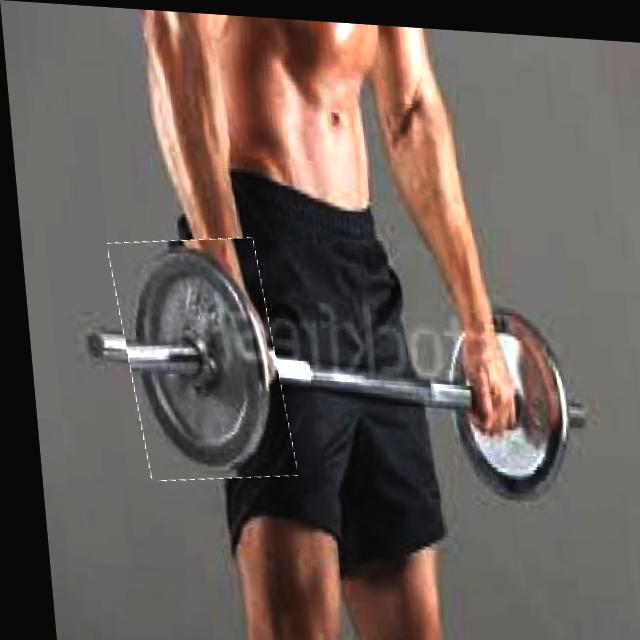barbell: (108, 231, 284, 484)
